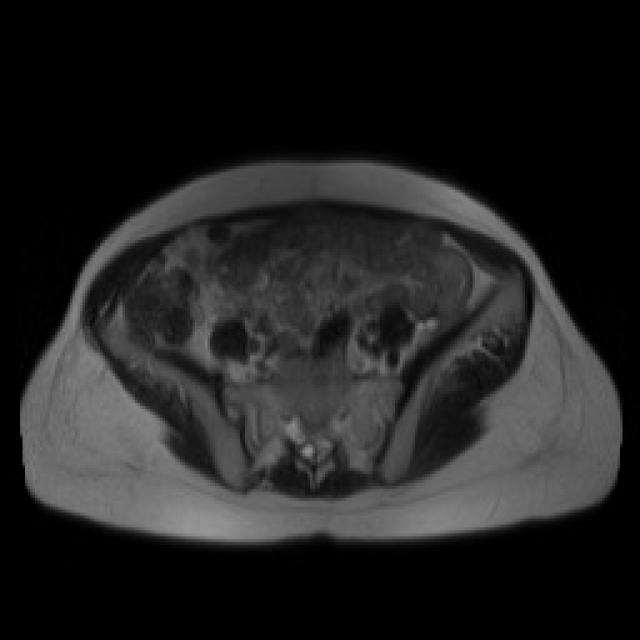sag: (188, 277, 233, 324)
